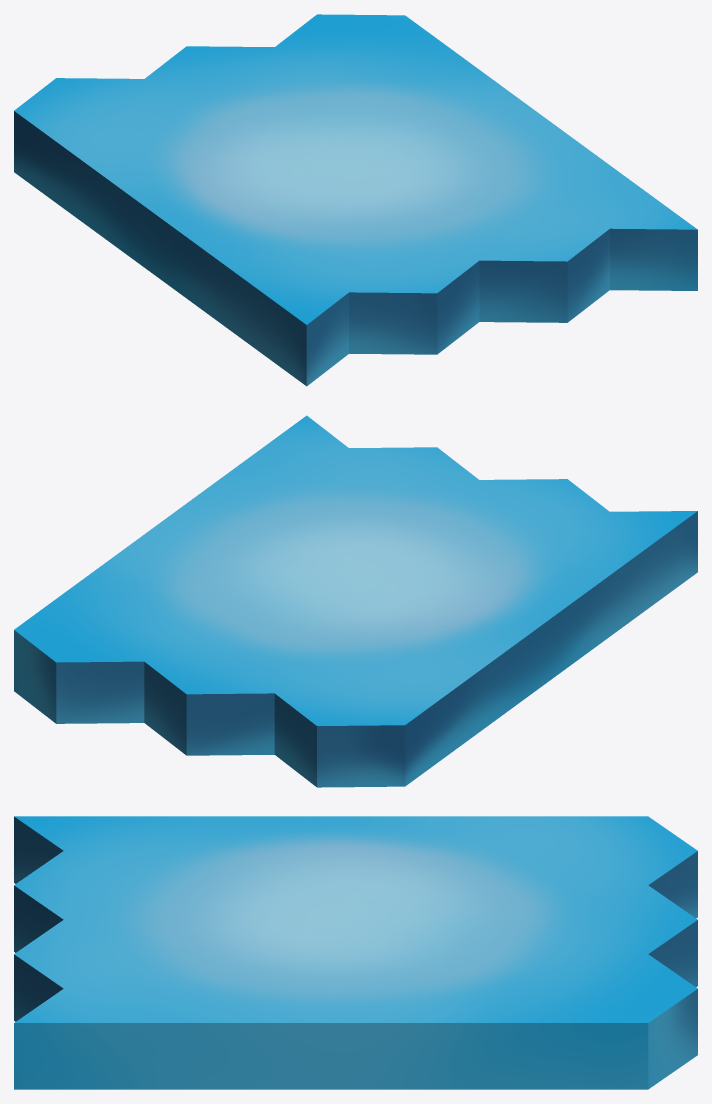
The model's file is IceCracked.gltf.
3 views of the same model, one above another, from view 1: azimuth 30°, elevation 25°; view 2: azimuth 150°, elevation 25°; view 3: azimuth 270°, elevation 25° (orthographic). The views are drawn at different scales.
Parts seen in each view (by area): view 1: ice01, ice02; view 2: ice02, ice01; view 3: ice02, ice01.
Part boxes in pixels (x1,y1,x2,y2): ice01: (160,121,697,386); ice02: (14,14,551,278); ice02: (14,522,551,787); ice01: (160,415,697,678); ice02: (331,816,697,1089); ice01: (14,816,380,1089).
Bounding box in the file's own units: 2 × 0.3 × 2.8.
1 material, 1 textured.
